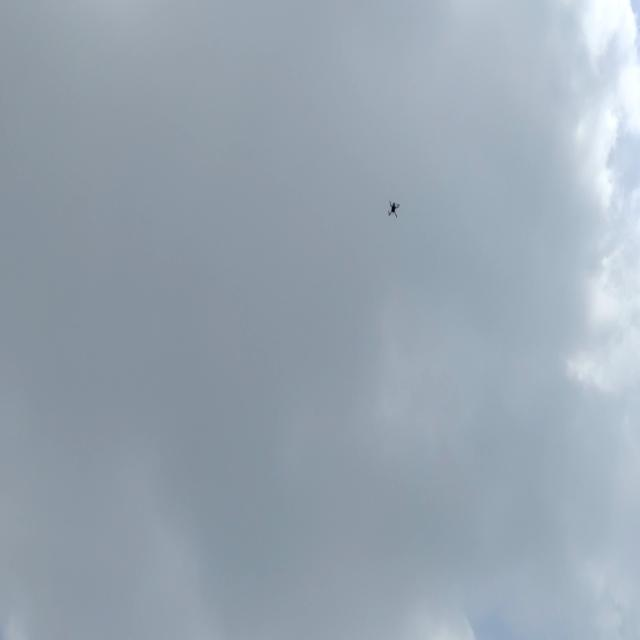drone: (382, 196, 405, 223)
